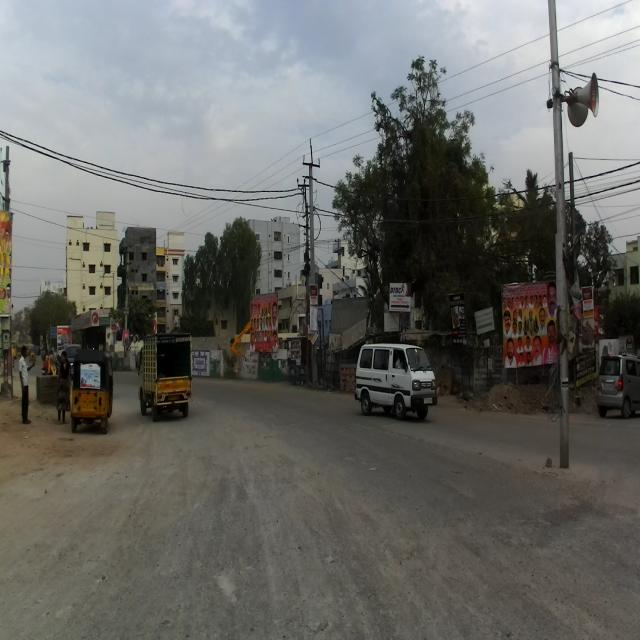auto ahead at: (65, 346, 111, 434)
car ahead at: (355, 338, 439, 421)
electric pole ahead at: (541, 0, 589, 476)
truck ahead at: (139, 329, 196, 423)
